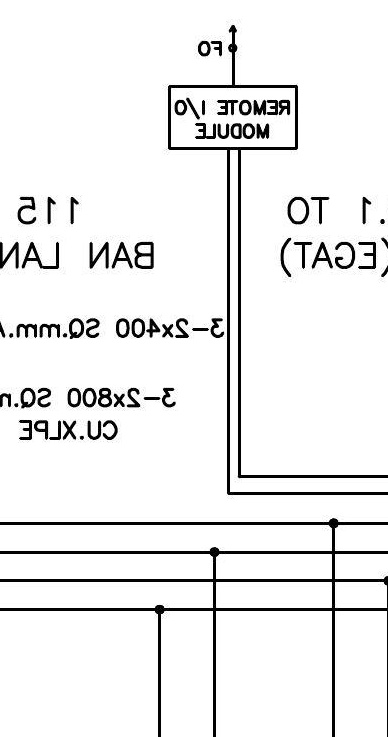remote_io_module: (168, 85, 299, 151)
